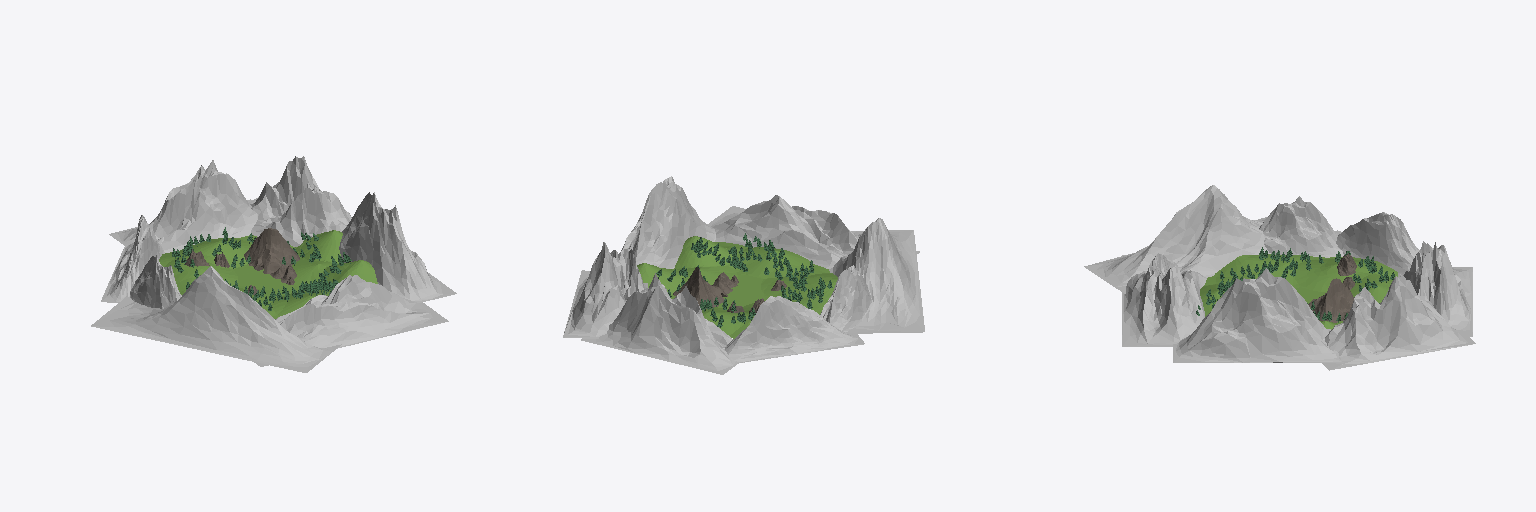
The model's file is map.obj.
3 views of the same model, side by side, from view 1: azimuth 30°, elevation 25°; view 2: azimuth 150°, elevation 25°; view 3: azimuth 270°, elevation 25° (orthographic).
Visible parts, largest first — view 1: Landschaft_4_Untitled.014, Landschaft_3_Untitled.004, Landschaft_2_Untitled, Untergrund_Untitled.012, Landschaft_6_Untitled.010, Landschaft_5_Untitled.011, Tannen_Untitled.009, Landschaft_1_Untitled.002, Landschaft_Untitled.006, Rock_Untitled.015; view 2: Landschaft_2_Untitled, Landschaft_4_Untitled.014, Untergrund_Untitled.012, Landschaft_3_Untitled.004, Landschaft_1_Untitled.002, Landschaft_6_Untitled.010, Landschaft_5_Untitled.011, Tannen_Untitled.009, Landschaft_Untitled.006, Rock_Untitled.015; view 3: Landschaft_6_Untitled.010, Landschaft_4_Untitled.014, Landschaft_5_Untitled.011, Landschaft_3_Untitled.004, Untergrund_Untitled.012, Landschaft_2_Untitled, Landschaft_Untitled.006, Landschaft_1_Untitled.002, Tannen_Untitled.009, Rock_Untitled.015.
Boxes of the visible parts, box(x1,y1,x2,y2) form: Landschaft_4_Untitled.014: box(91, 266, 341, 372); Landschaft_3_Untitled.004: box(254, 275, 448, 366); Landschaft_2_Untitled: box(109, 160, 257, 252); Untergrund_Untitled.012: box(159, 230, 377, 318); Landschaft_6_Untitled.010: box(339, 192, 456, 302); Landschaft_5_Untitled.011: box(249, 156, 351, 246); Tannen_Untitled.009: box(172, 227, 351, 310); Landschaft_1_Untitled.002: box(101, 215, 164, 302); Landschaft_Untitled.006: box(130, 255, 181, 308); Rock_Untitled.015: box(244, 228, 299, 273); Landschaft_2_Untitled: box(581, 273, 739, 374); Landschaft_4_Untitled.014: box(829, 218, 924, 333); Untergrund_Untitled.012: box(637, 236, 837, 338); Landschaft_3_Untitled.004: box(708, 195, 919, 268); Landschaft_1_Untitled.002: box(725, 296, 864, 362); Landschaft_6_Untitled.010: box(621, 176, 715, 268); Landschaft_5_Untitled.011: box(563, 242, 647, 338); Tannen_Untitled.009: box(656, 233, 832, 327); Landschaft_Untitled.006: box(820, 265, 871, 331); Rock_Untitled.015: box(673, 267, 727, 308); Landschaft_6_Untitled.010: box(1173, 268, 1343, 362); Landschaft_4_Untitled.014: box(1084, 185, 1270, 293); Landschaft_5_Untitled.011: box(1322, 275, 1475, 370); Landschaft_3_Untitled.004: box(1122, 253, 1206, 346); Untergrund_Untitled.012: box(1200, 254, 1397, 329); Landschaft_2_Untitled: box(1400, 241, 1472, 336); Landschaft_Untitled.006: box(1259, 196, 1343, 257); Landschaft_1_Untitled.002: box(1335, 212, 1419, 276); Tannen_Untitled.009: box(1196, 247, 1394, 322); Rock_Untitled.015: box(1308, 278, 1353, 322).
Size of the model in its own units: 217 by 54.43 by 229.